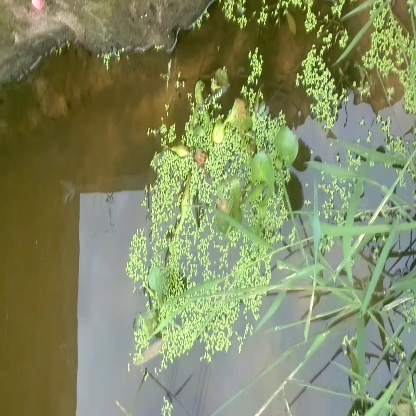leaf: (270, 121, 303, 170)
